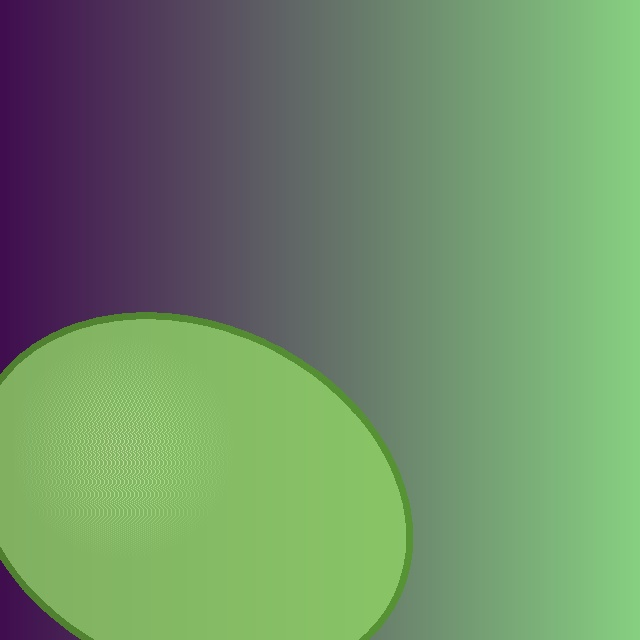lens: (0, 315, 409, 640)
